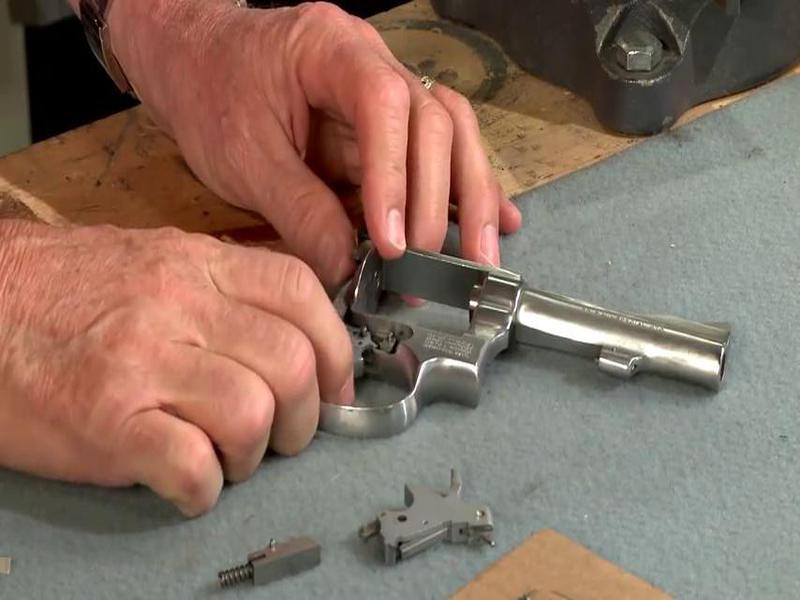Revolver: (157, 174, 747, 493)
